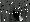person: (15, 8, 23, 21)
